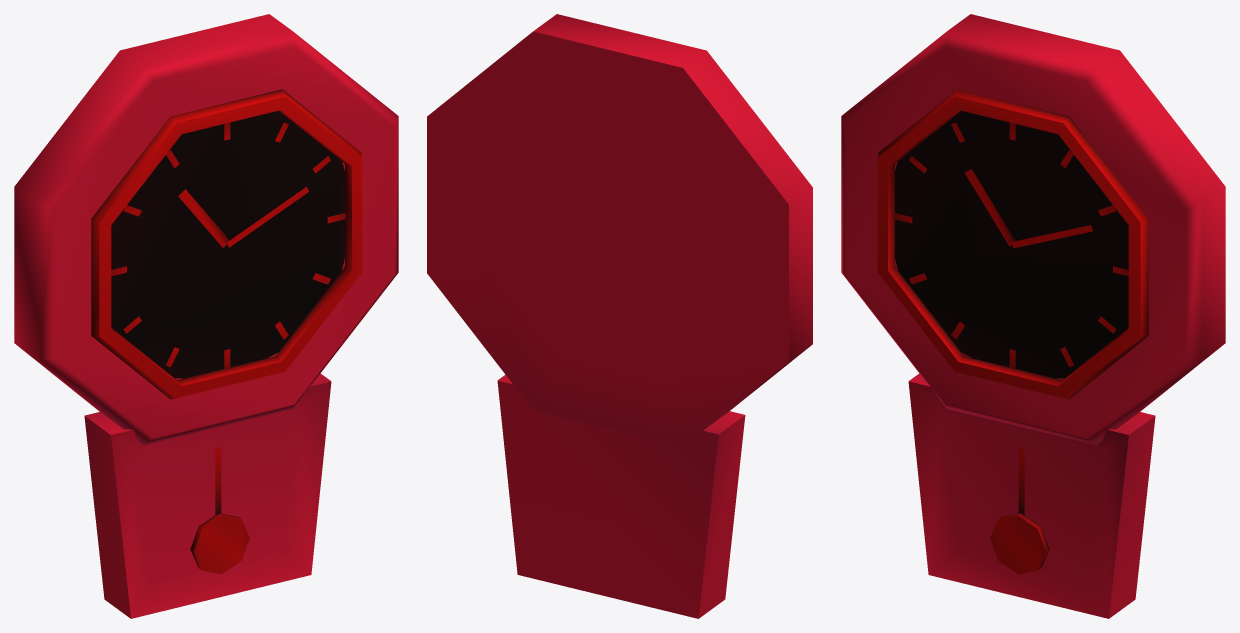
Rendered from CI_Kitchen_WallClock.glb.
3 views of the same model, side by side, from view 1: azimuth 30°, elevation 25°; view 2: azimuth 150°, elevation 25°; view 3: azimuth 330°, elevation 25° (orthographic).
Parts seen in each view (by area): view 1: CI_Kitchen_WallClock; view 2: CI_Kitchen_WallClock; view 3: CI_Kitchen_WallClock.
Boxes of the visible parts, x1,y1,x2,y2 form: CI_Kitchen_WallClock: (14,14,398,618); CI_Kitchen_WallClock: (427,14,812,618); CI_Kitchen_WallClock: (841,14,1225,618).
Bounding box in the file's own units: 0.36 × 0.52 × 0.064.
